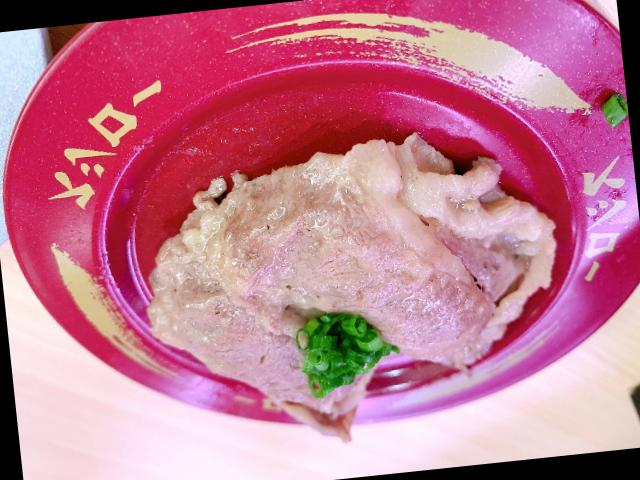janred: (22, 27, 628, 479)
